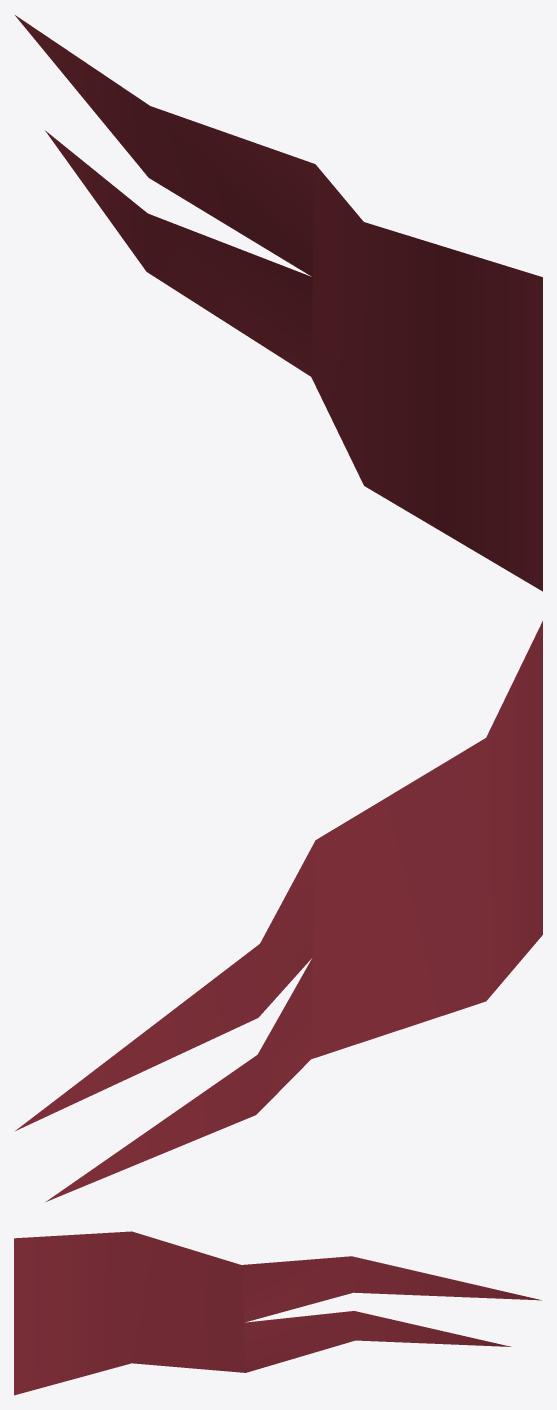
Rendered from flag_red.FBX.
3 views of the same model, one above another, from view 1: azimuth 30°, elevation 25°; view 2: azimuth 150°, elevation 25°; view 3: azimuth 270°, elevation 25° (orthographic). The views are drawn at different scales.
Visible parts, largest first — view 1: flag_red; view 2: flag_red; view 3: flag_red.
Part boxes in pixels (x1=…): flag_red: x1=15, y1=15, x2=542, y2=591; flag_red: x1=15, y1=621, x2=542, y2=1201; flag_red: x1=14, y1=1231, x2=541, y2=1395.
Bounding box in the file's own units: 0.4717 × 2.32 × 7.07.
